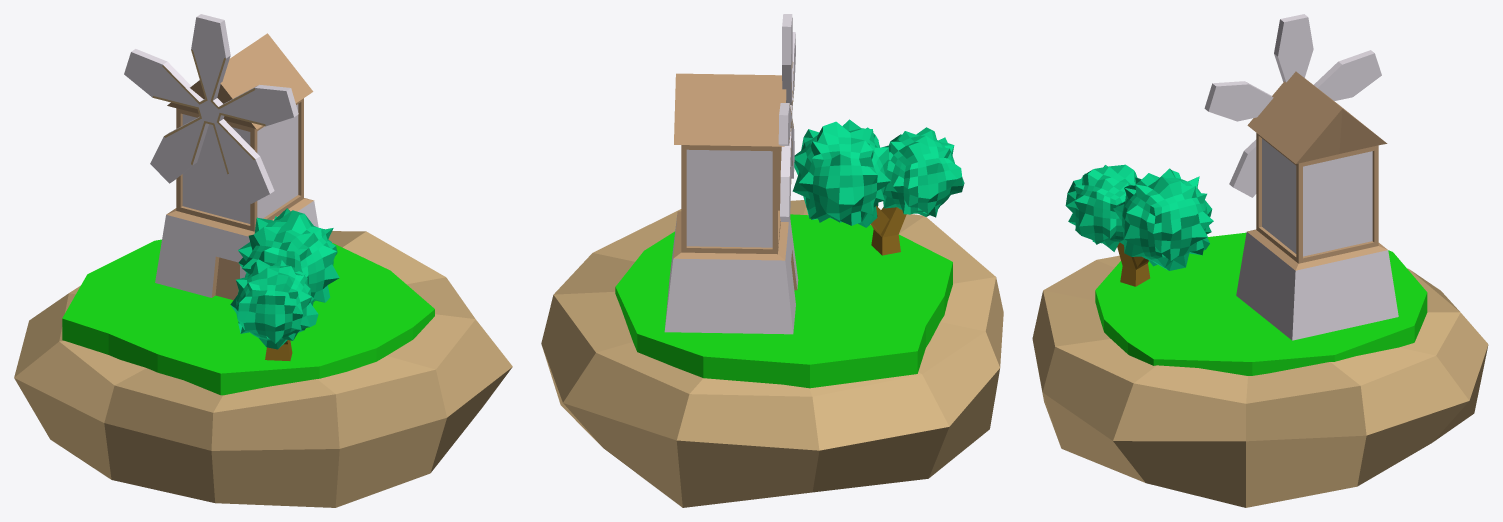
3 renders of one model, left to right at view 1: azimuth 30°, elevation 25°; view 2: azimuth 150°, elevation 25°; view 3: azimuth 270°, elevation 25°, orthographic. The views are drawn at different scales.
Parts seen in each view (by area): view 1: Island, Green_platform, Mill, propeller, Tree; view 2: Island, Green_platform, Mill, Tree, propeller; view 3: Island, Mill, Green_platform, Tree, propeller.
Boxes of the visible parts, left/top/right/bottom form: Island: left=14, top=231, right=512, bottom=507; Green_platform: left=62, top=239, right=434, bottom=395; Mill: left=155, top=33, right=318, bottom=300; propeller: left=124, top=14, right=298, bottom=203; Tree: left=230, top=208, right=339, bottom=360; Island: left=541, top=200, right=1003, bottom=507; Green_platform: left=615, top=214, right=952, bottom=388; Mill: left=664, top=73, right=798, bottom=334; Tree: left=792, top=119, right=964, bottom=255; propeller: left=778, top=14, right=795, bottom=221; Island: left=1032, top=255, right=1488, bottom=507; Mill: left=1236, top=71, right=1398, bottom=340; Green_platform: left=1095, top=232, right=1427, bottom=375; Tree: left=1065, top=164, right=1213, bottom=286; propeller: left=1204, top=14, right=1381, bottom=197.
Size of the model in its own units: 138 by 135 by 142.
